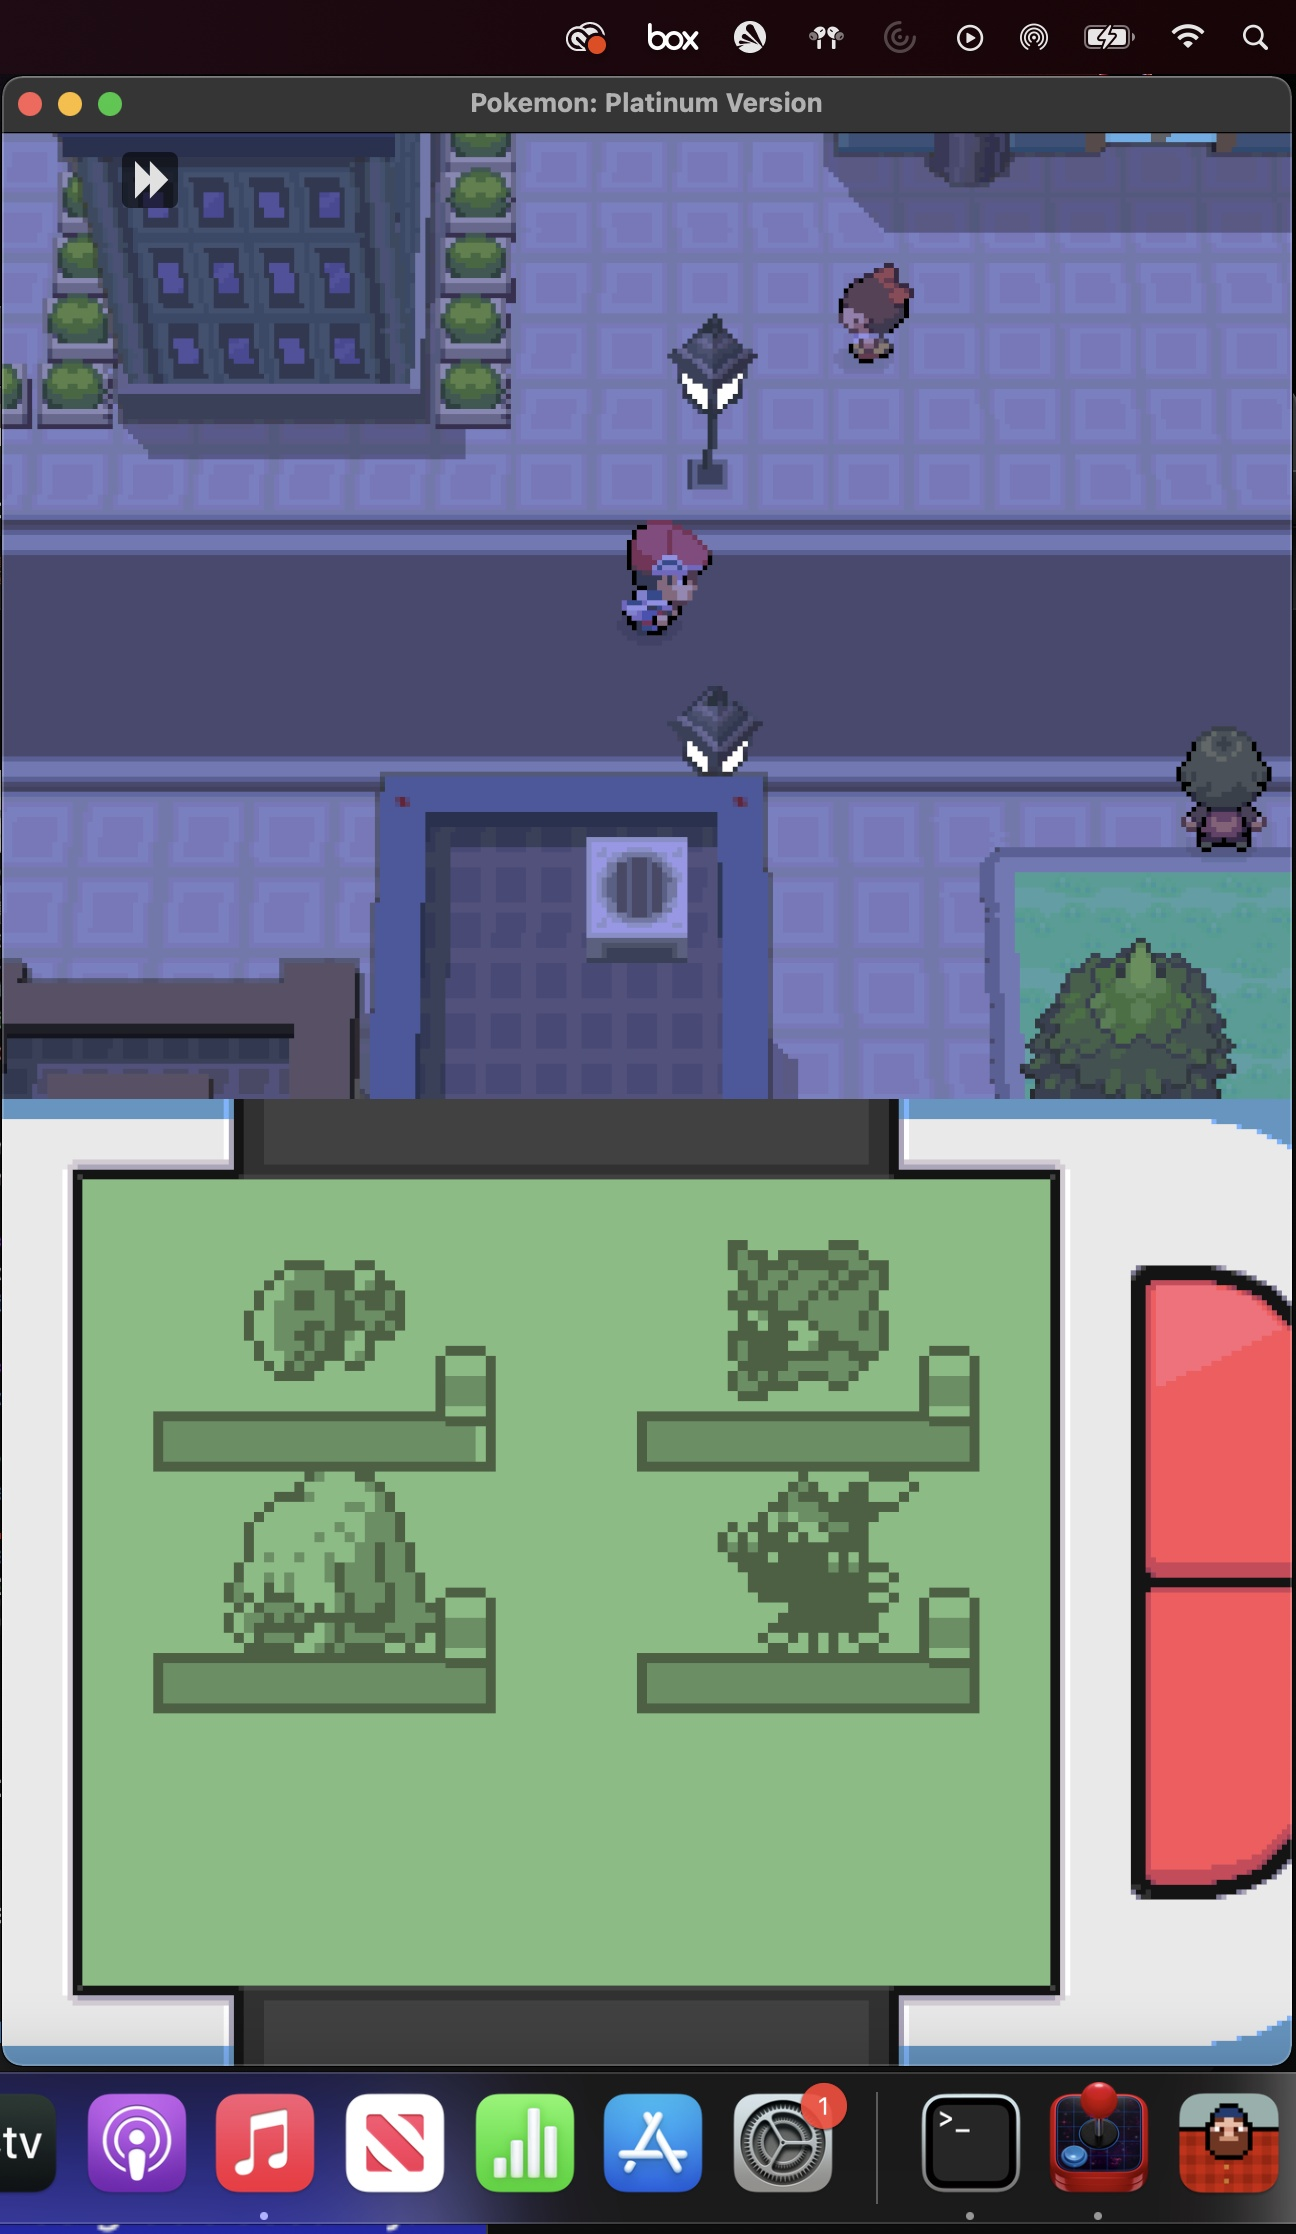player: (616, 519, 713, 648)
